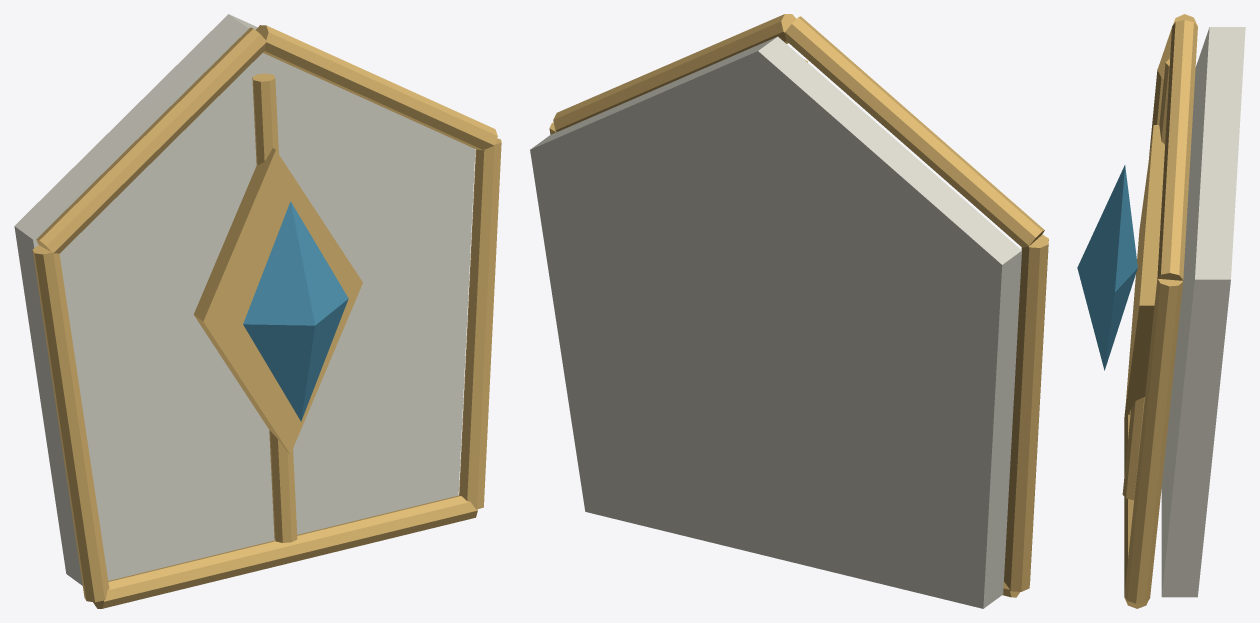
The model's file is priestess_mitre.glb.
The picture shows the model from 3 angles, left to right: view 1: azimuth 30°, elevation 25°; view 2: azimuth 150°, elevation 25°; view 3: azimuth 270°, elevation 25°; orthographic projection. The views are drawn at different scales.
Parts seen in each view (by area): view 1: Mitre ivory inset; view 2: Mitre ivory inset; view 3: Mitre ivory inset.
Boxes of the visible parts, left/top/right/bottom form: Mitre ivory inset: left=14, top=14, right=501, bottom=608; Mitre ivory inset: left=530, top=14, right=1048, bottom=608; Mitre ivory inset: left=1077, top=14, right=1245, bottom=608.
Size of the model in its own units: 0.3618 by 0.3845 by 0.1166.
